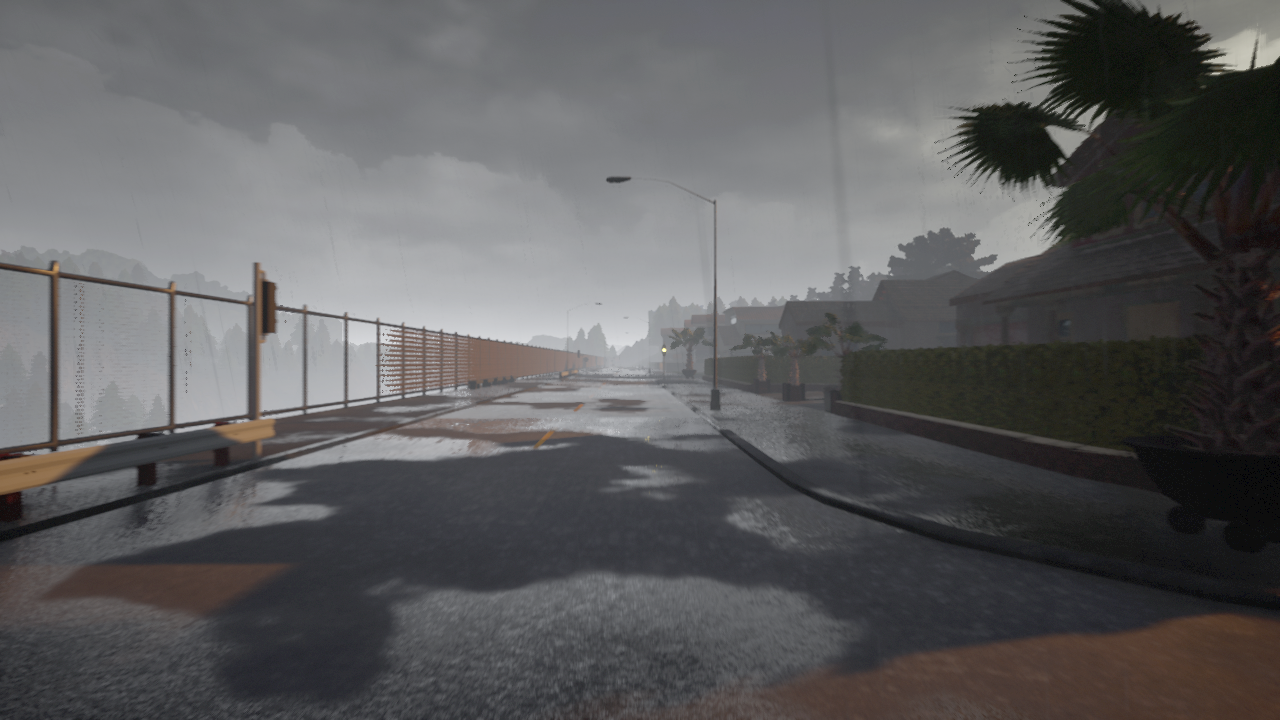yellow: (661, 344, 667, 357)
